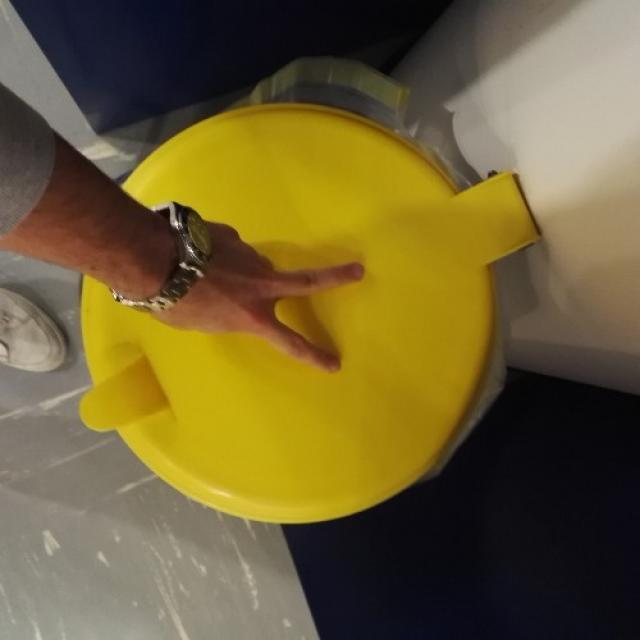scissors: (181, 235, 367, 373)
